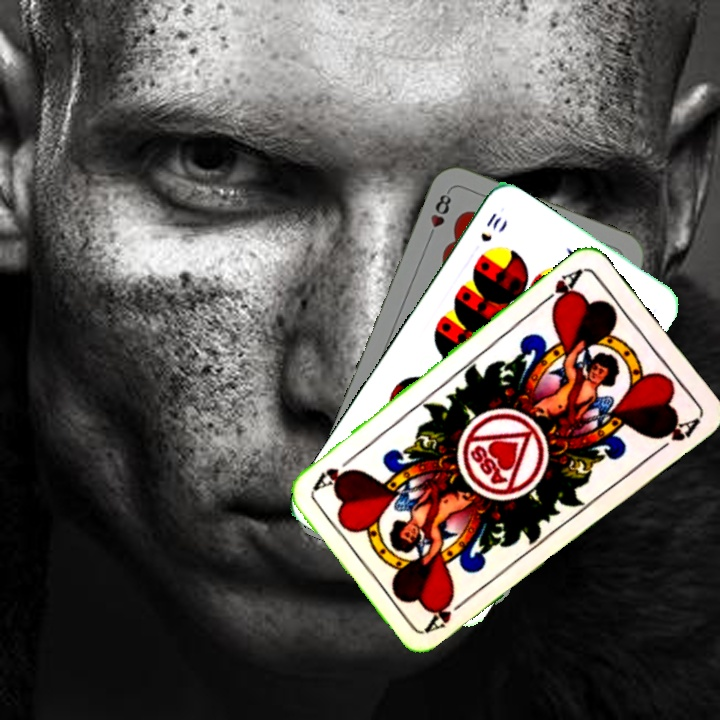H8: (424, 186, 454, 243)
HA: (535, 264, 585, 314), (422, 591, 473, 635)
S10: (476, 208, 504, 245)
